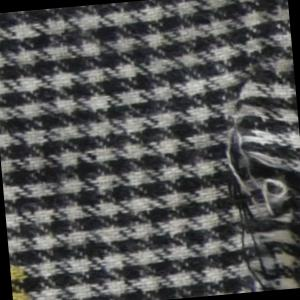Damage: (197, 1, 300, 295)
Stain: (10, 259, 40, 300)
